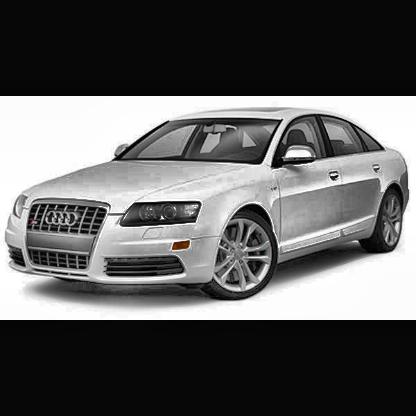Audi S6 Sedan 2011: (7, 108, 410, 302)
